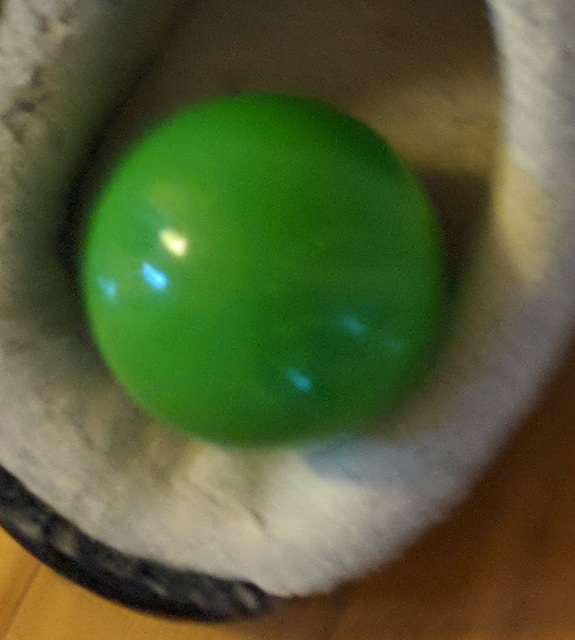ball: (82, 92, 438, 443)
